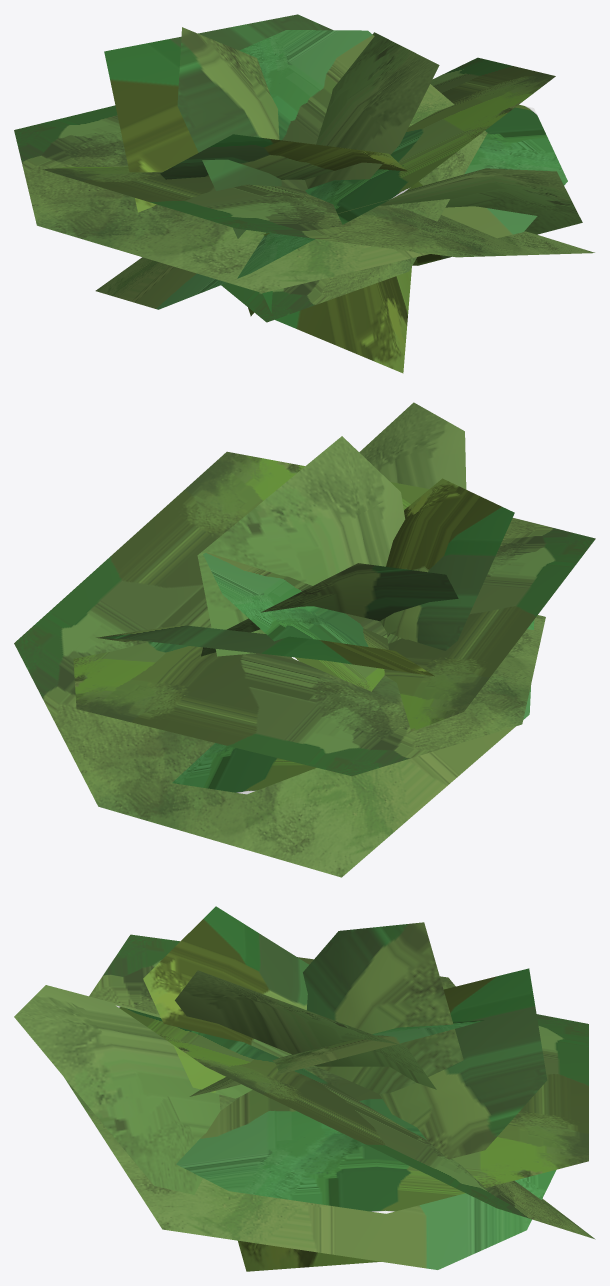
Rendered from Plante_08.fbx.
3 views of the same model, one above another, from view 1: azimuth 30°, elevation 25°; view 2: azimuth 150°, elevation 25°; view 3: azimuth 270°, elevation 25° (orthographic). The views are drawn at different scales.
Parts seen in each view (by area): view 1: Plante_08; view 2: Plante_08; view 3: Plante_08.
Boxes of the visible parts, bbox=[...] form: Plante_08: bbox=[14, 14, 594, 373]; Plante_08: bbox=[14, 402, 595, 877]; Plante_08: bbox=[14, 906, 595, 1271].
Bounding box in the file's own units: 2.09 × 1.31 × 2.25.
